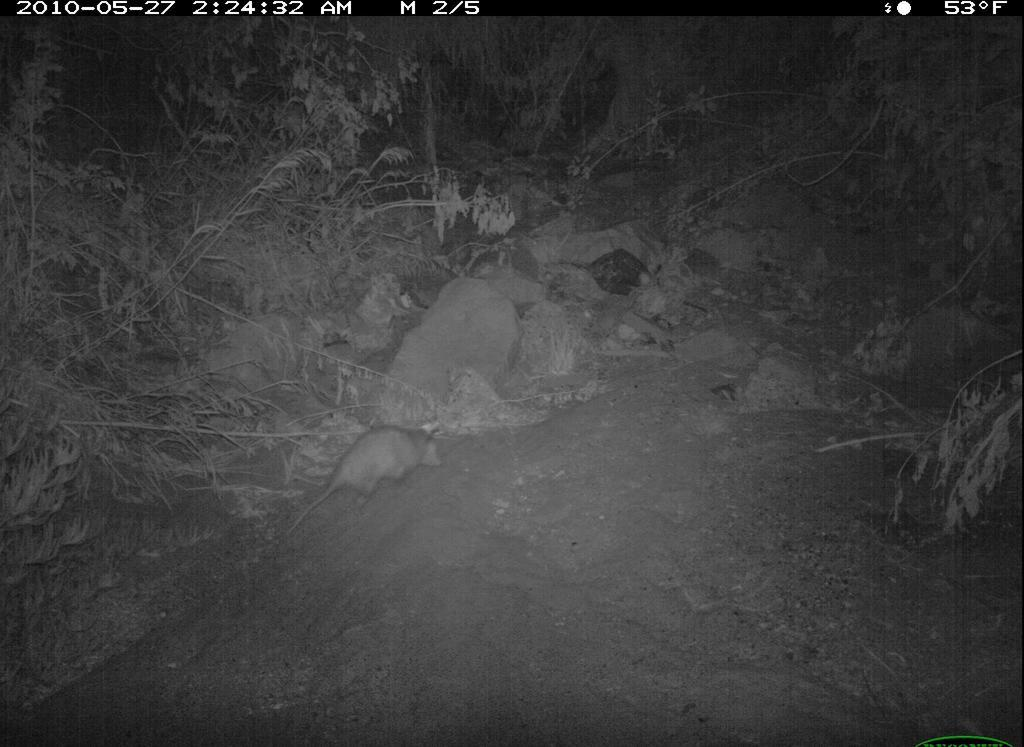opossum: (280, 420, 452, 538)
